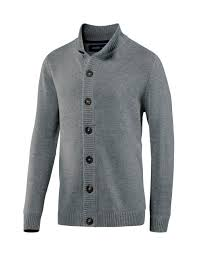S_cardigan sweater: (25, 23, 181, 249)
